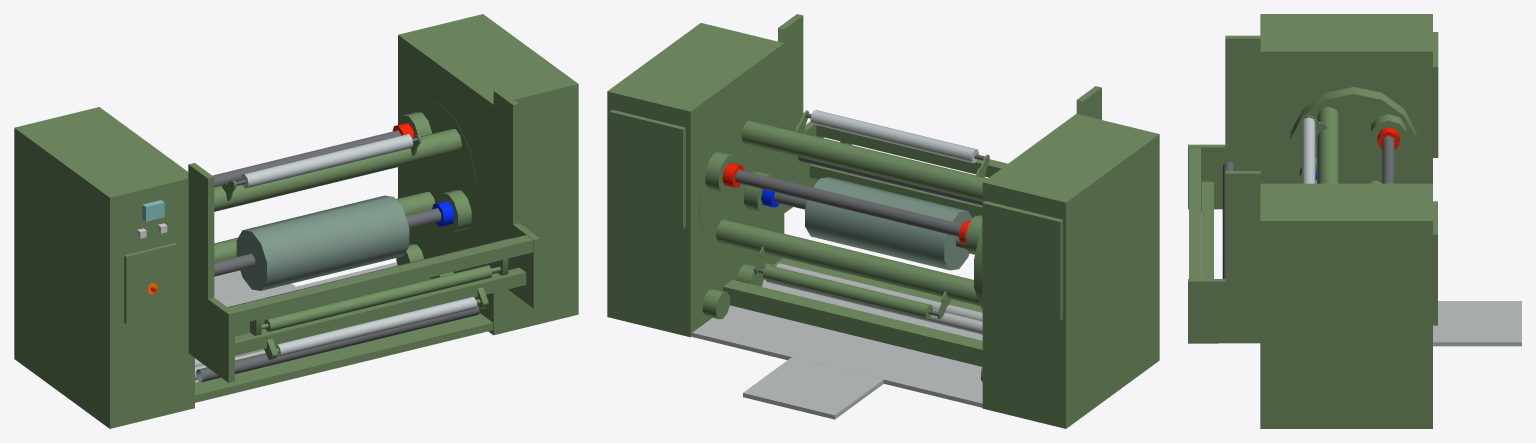
File: Wound.FBX
3 views of the same model, side by side, from view 1: azimuth 30°, elevation 25°; view 2: azimuth 150°, elevation 25°; view 3: azimuth 270°, elevation 25° (orthographic). The views are drawn at different scales.
Parts seen in each view (by area): view 1: Object_07_Wound; view 2: Object_07_Wound; view 3: Object_07_Wound.
Boxes of the visible parts, <box> form: Object_07_Wound: <box>14,14,578,428</box>; Object_07_Wound: <box>607,14,1159,428</box>; Object_07_Wound: <box>1188,14,1521,428</box>.
Bounding box in the file's own units: 34.07 × 17.04 × 23.3.
